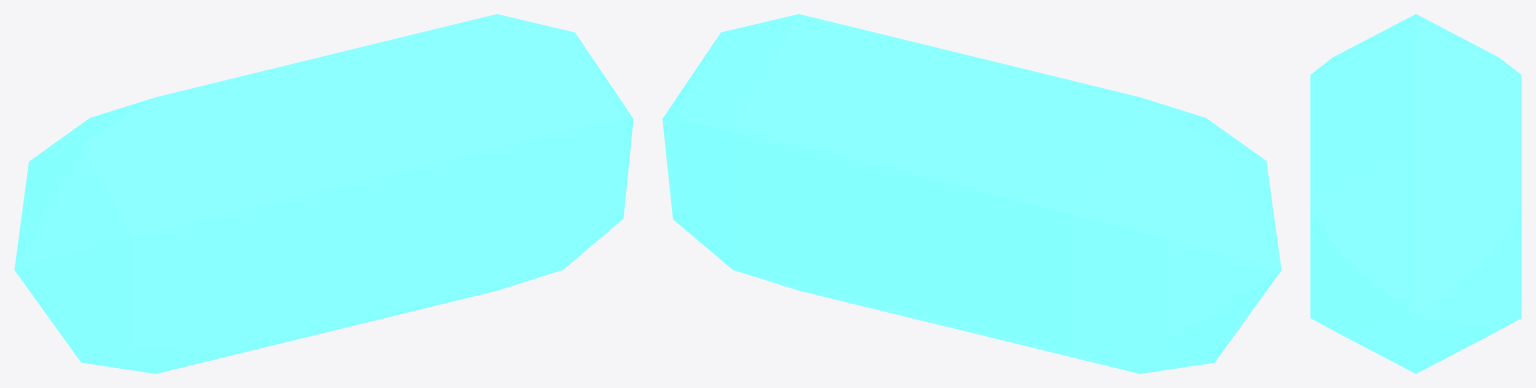
Rendered from wall_shot.fbx.
The picture shows the model from 3 angles, left to right: view 1: azimuth 30°, elevation 25°; view 2: azimuth 150°, elevation 25°; view 3: azimuth 270°, elevation 25°; orthographic projection. The views are drawn at different scales.
Visible parts, largest first — view 1: wall_shot; view 2: wall_shot; view 3: wall_shot.
Boxes of the visible parts, x1,y1,x2,y2 form: wall_shot: [14, 14, 633, 373]; wall_shot: [662, 14, 1281, 373]; wall_shot: [1310, 14, 1521, 373].
Bounding box in the file's own units: 0.00427 × 0.00183 × 0.00158.
